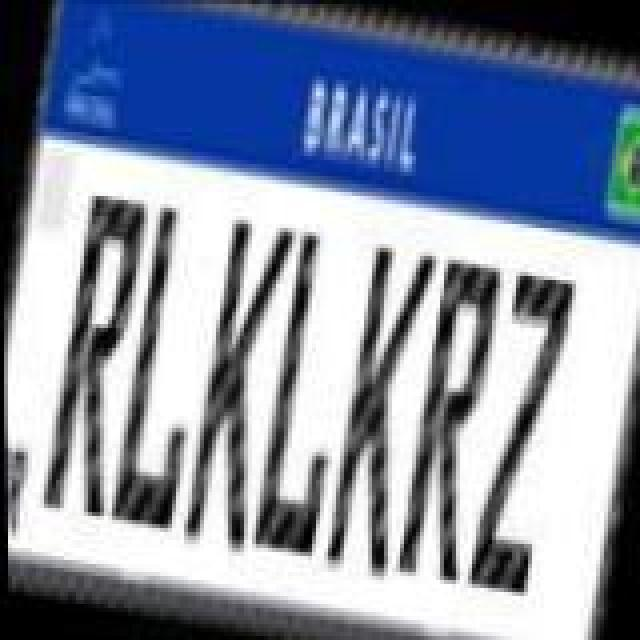K: (172, 214, 296, 554), (316, 240, 440, 580)
L: (244, 226, 368, 562), (104, 200, 224, 532)
R: (388, 254, 512, 586), (36, 190, 156, 522)
Z: (458, 264, 578, 596)
